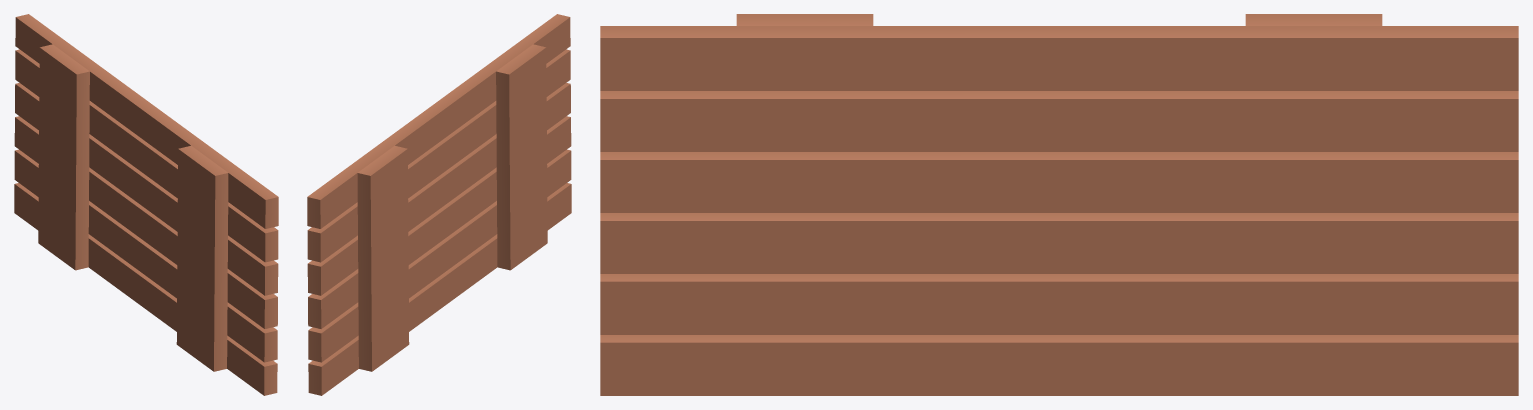
File: planks.051_lev4.glb
3 views of the same model, side by side, from view 1: azimuth 30°, elevation 25°; view 2: azimuth 150°, elevation 25°; view 3: azimuth 270°, elevation 25° (orthographic). The views are drawn at different scales.
Parts seen in each view (by area): view 1: planks.051_lev4; view 2: planks.051_lev4; view 3: planks.051_lev4.
Boxes of the visible parts, box(x1,y1,x2,y2) form: planks.051_lev4: box(14, 14, 278, 395); planks.051_lev4: box(307, 14, 571, 395); planks.051_lev4: box(600, 14, 1518, 395).
Size of the model in its own units: 0.4538 by 3.07 by 7.11.
Materials: 1 (1 with a texture image).
